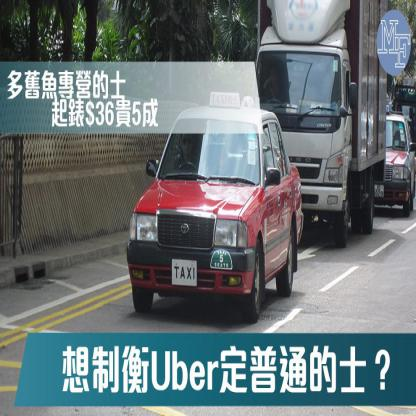taxi: (125, 89, 304, 331)
